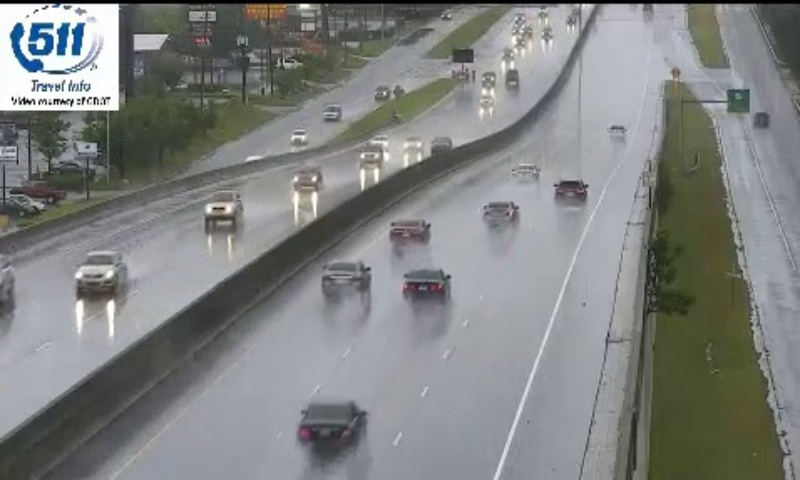car: (297, 400, 364, 449), (321, 260, 369, 295), (403, 270, 450, 300), (388, 217, 430, 244), (482, 201, 520, 228), (555, 178, 587, 206), (510, 163, 540, 182)
